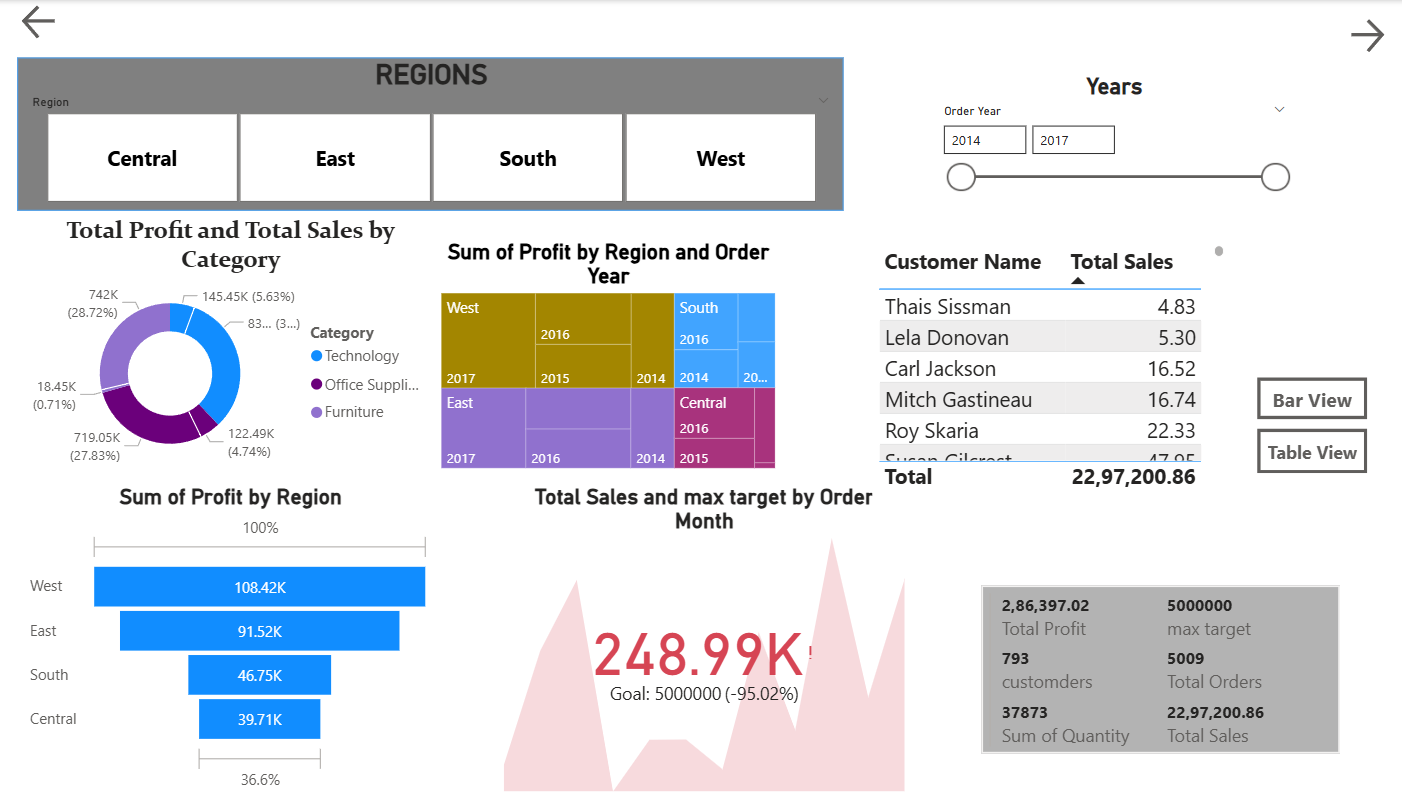

Layout of this report page (visuals, bound fields, positions):
{"tool":"powerbi","page":{"name":"Page 2","canvas":[1280,720],"ordinal":1},"visuals":[{"type":"donutChart","fields":{"Category":["Sample - Superstore.Category"],"Y":["Sample - Superstore.Total Profit","Sample - Superstore.Total Sales"]},"box":[26.1,194.9,371.9,233.3],"z":0},{"type":"treemap","fields":{"Values":["Sample - Superstore.Profit"],"Group":["Sample - Superstore.Region"],"Details":["Sample - Superstore.Order Year"]},"box":[397.9,216.8,311.5,211.3],"z":1000},{"type":"funnel","fields":{"Category":["Sample - Superstore.Region"],"Y":["Sample - Superstore.Profit"]},"box":[26,438,372,282],"z":2000},{"type":"kpi","fields":{"Goal":["Sample - Superstore.target"],"Indicator":["Sample - Superstore.Total Sales"],"TrendLine":["Sample - Superstore.Order Month"]},"box":[454,438,372,282],"z":3000},{"type":"multiRowCard","fields":{"Values":["Sample - Superstore.Total Profit","Sample - Superstore.target","Sample - Superstore.customders","Sample - Superstore.Total Orders","Sample - Superstore.Quantity","Sample - Superstore.Total Sales"]},"box":[885.1,524.2,333.4,167.4],"z":4000},{"type":"slicer","title":"REGIONS","fields":{"Values":["Sample - Superstore.Region"]},"box":[19.2,52.1,746.5,138.6],"z":5000},{"type":"slicer","title":"Years","fields":{"Values":["Sample - Superstore.Order Year"]},"box":[843.9,65.9,333.4,112.5],"z":6000},{"type":"actionButton","box":[19.2,0,53.5,39.8],"z":7000},{"type":"actionButton","box":[1218.5,12.3,61.7,39.8],"z":8000},{"type":"tableEx","fields":{"Values":["Sample - Superstore.Customer Name","Sample - Superstore.Total Sales"]},"box":[791.8,216.8,322.5,231.9],"z":10000},{"type":"actionButton","box":[1139.2,386.9,99.4,40.3],"z":11000},{"type":"actionButton","box":[1139.2,341.2,99.4,37.6],"z":12000}]}

Visuals, with their boxes in screenshot pixels (x1, y1, x2, y2), scaled from the page's 1280x720 canvas onto the 1402x797 screenshot:
donutChart - Sample - Superstore.Category x Sample - Superstore.Total Profit: (x1=29, y1=216, x2=436, y2=474)
treemap - Sample - Superstore.Profit x Sample - Superstore.Region: (x1=436, y1=240, x2=777, y2=474)
funnel - Sample - Superstore.Region x Sample - Superstore.Profit: (x1=28, y1=485, x2=436, y2=796)
kpi - Sample - Superstore.target x Sample - Superstore.Total Sales: (x1=497, y1=485, x2=905, y2=796)
multiRowCard - Sample - Superstore.Total Profit x Sample - Superstore.target: (x1=969, y1=580, x2=1335, y2=766)
"REGIONS" slicer: (x1=21, y1=58, x2=839, y2=211)
"Years" slicer: (x1=924, y1=73, x2=1290, y2=197)
actionButton: (x1=21, y1=0, x2=80, y2=44)
actionButton: (x1=1335, y1=14, x2=1401, y2=58)
tableEx - Sample - Superstore.Customer Name x Sample - Superstore.Total Sales: (x1=867, y1=240, x2=1221, y2=497)
actionButton: (x1=1248, y1=428, x2=1357, y2=473)
actionButton: (x1=1248, y1=378, x2=1357, y2=419)
